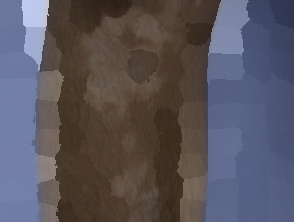vitiligo: (63, 0, 206, 130), (99, 158, 180, 222), (117, 131, 138, 156)
